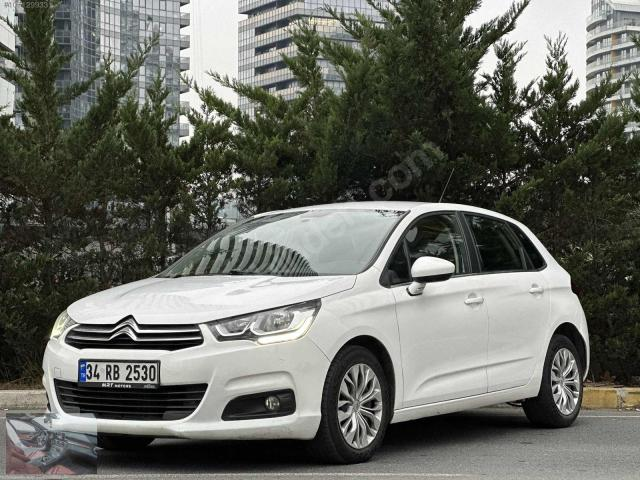plaka: (78, 360, 159, 388)
